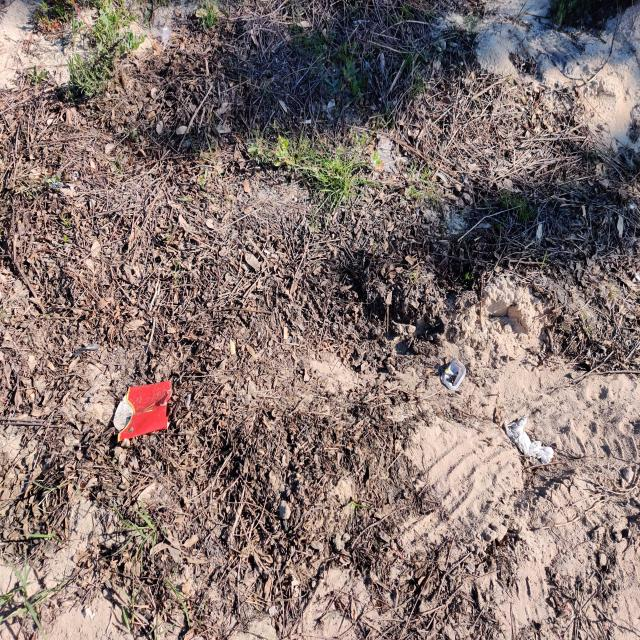litter: (113, 380, 172, 442), (534, 28, 589, 80), (504, 416, 554, 464), (372, 133, 400, 180), (439, 357, 466, 390), (71, 0, 93, 32), (151, 24, 172, 50), (564, 606, 576, 620), (305, 119, 311, 124)
